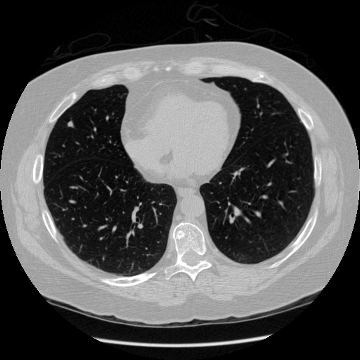nodule: (66, 120, 74, 128)
